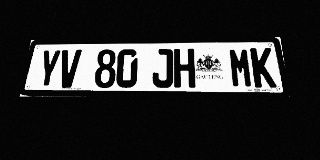0: (115, 49, 138, 88)
8: (94, 49, 117, 88)
H: (174, 49, 196, 88)
J: (152, 49, 173, 88)
K: (250, 48, 277, 88)
M: (228, 48, 254, 88)
V: (56, 50, 82, 88)
Y: (35, 50, 62, 88)
